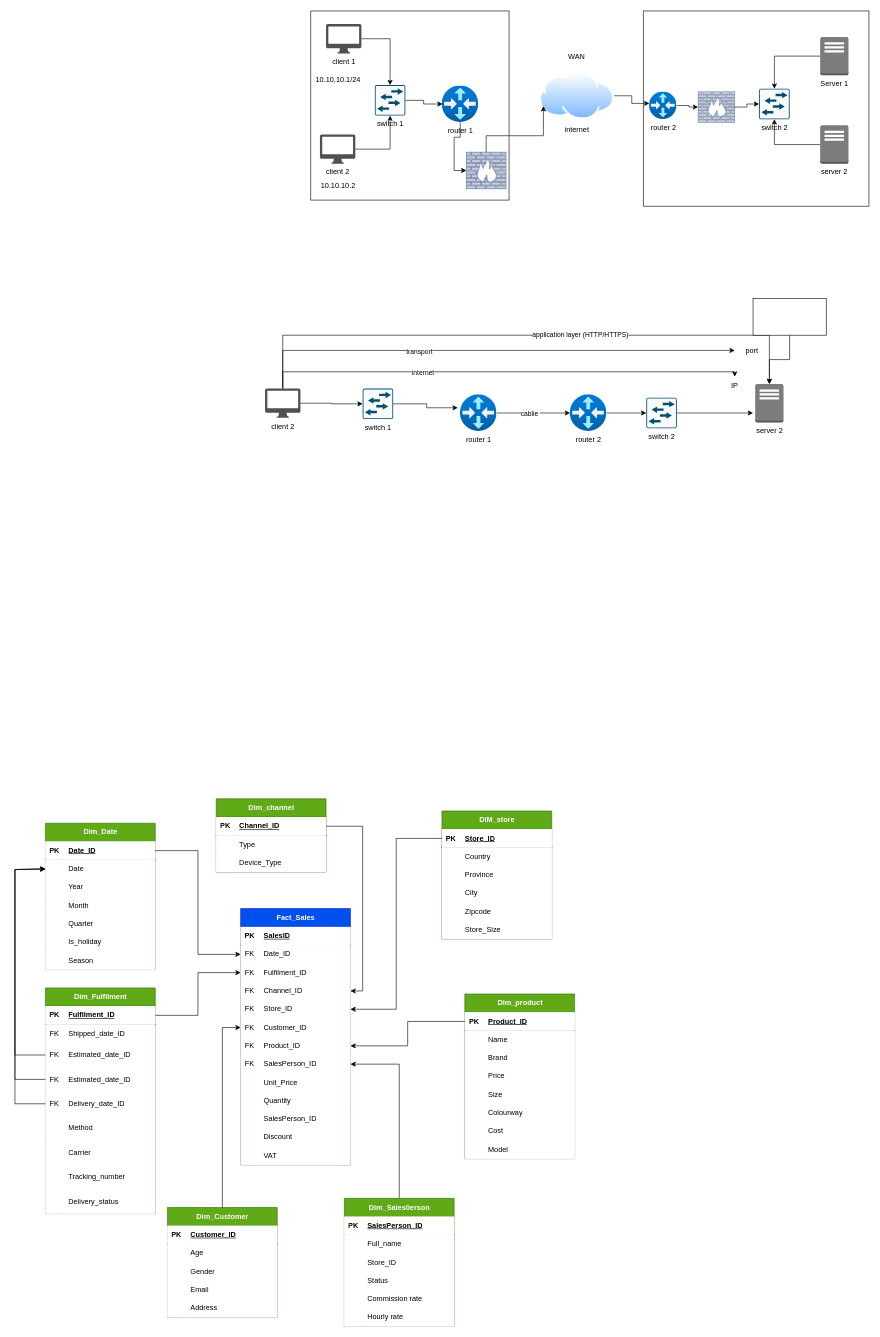
This 880x1337 diagram has some shape labels left out. Here are the shapes that lost their labels. From the top down, the centre of each, then its label:
At (716,107): "firewall 2".
At (485,170): "firewall 1".
At (789,316): "web server".
